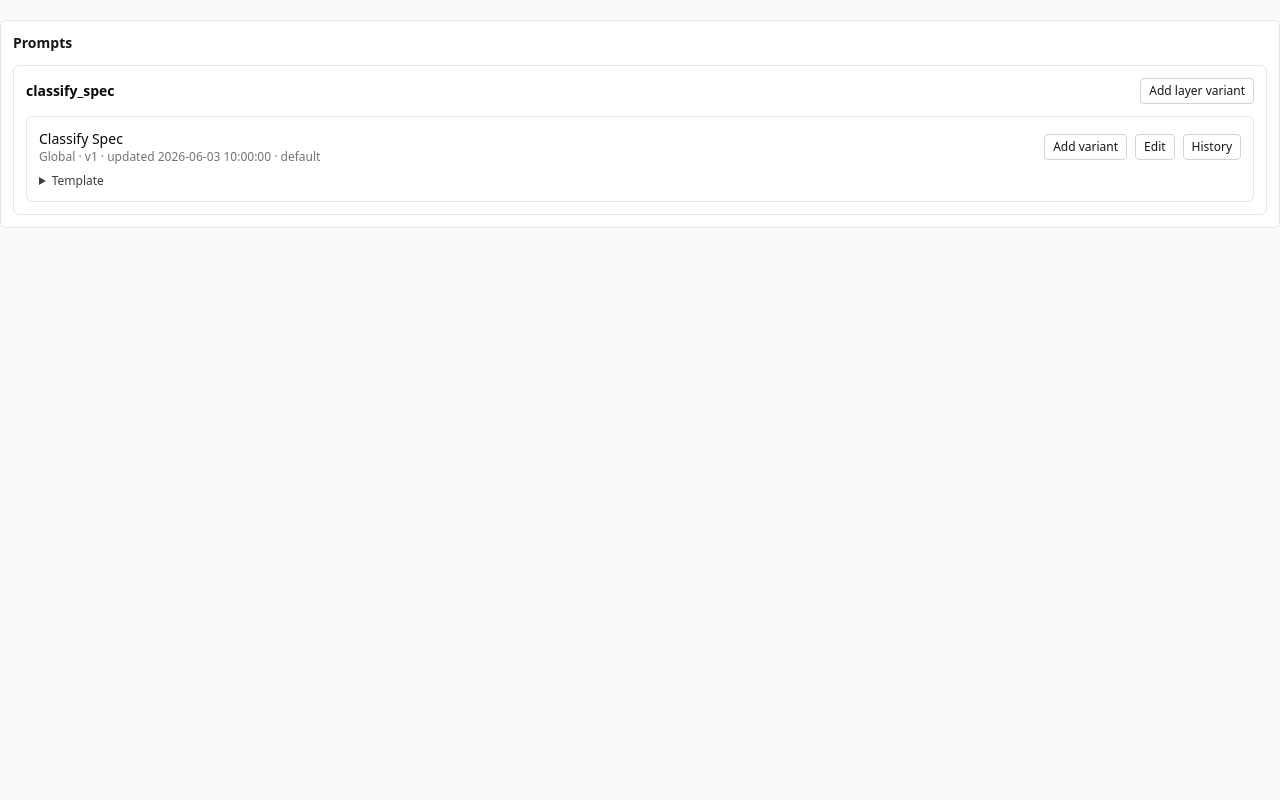
Scenario: PromptsPanel › refreshes active prompts after edit and promote
The width and height of the screenshot is (1280, 800).
Expected: the text "Global · v1 · updated 2026-06-03 10:00:00 · default" is shown, left=39, top=149, right=320, bottom=165
Click the button "Edit" at (1155, 147), box left=1135, top=134, right=1175, bottom=160
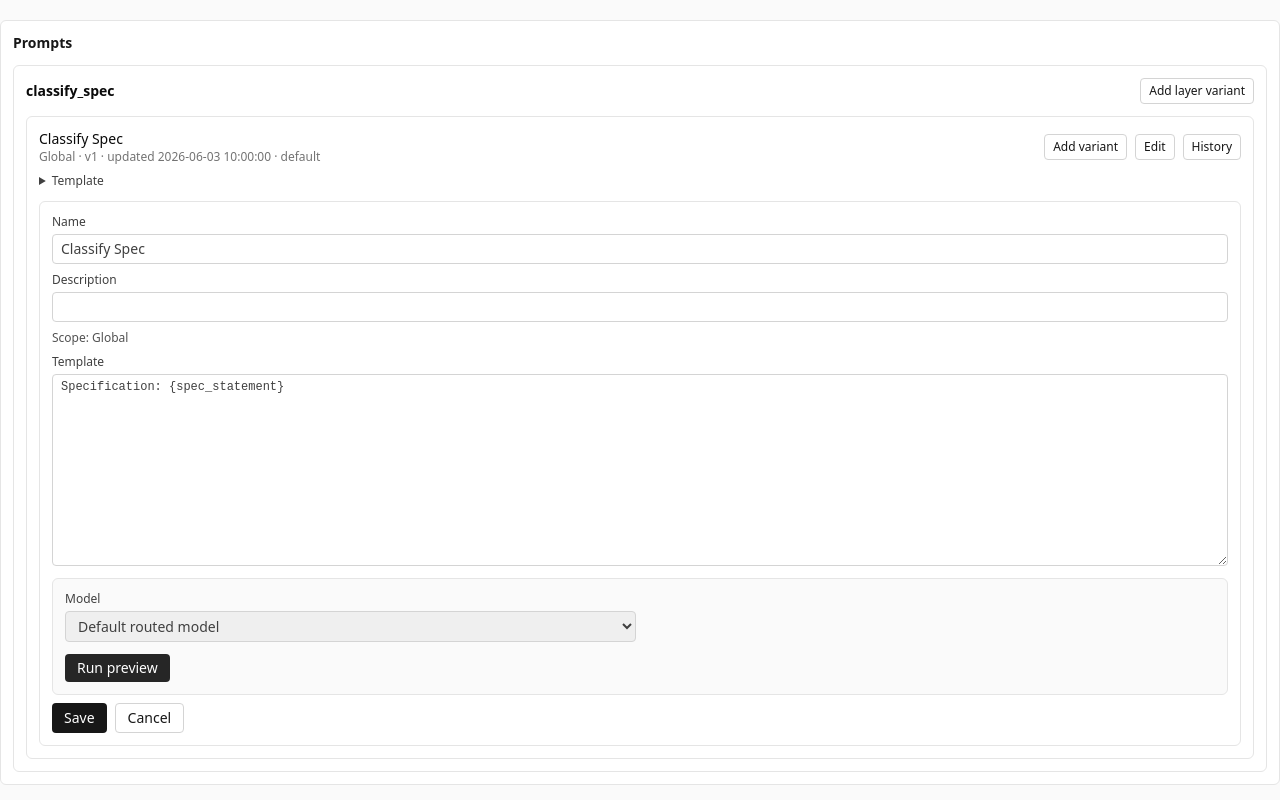
Click the button "Save" at (79, 718), box left=52, top=703, right=107, bottom=733
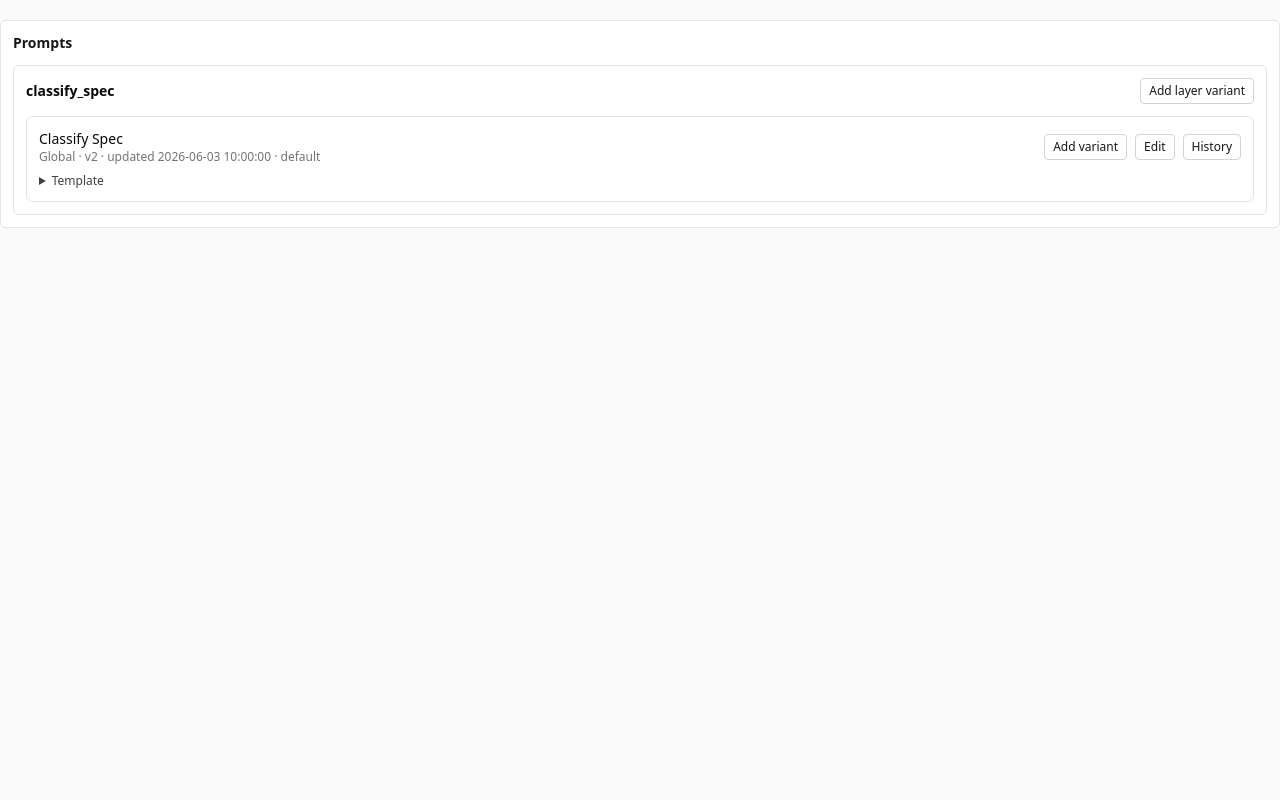
Expected: the text "Global · v2 · updated 2026-06-03 10:00:00 · default" is shown, left=39, top=149, right=320, bottom=165
Click the button "History" at (1212, 147), box left=1183, top=134, right=1241, bottom=160
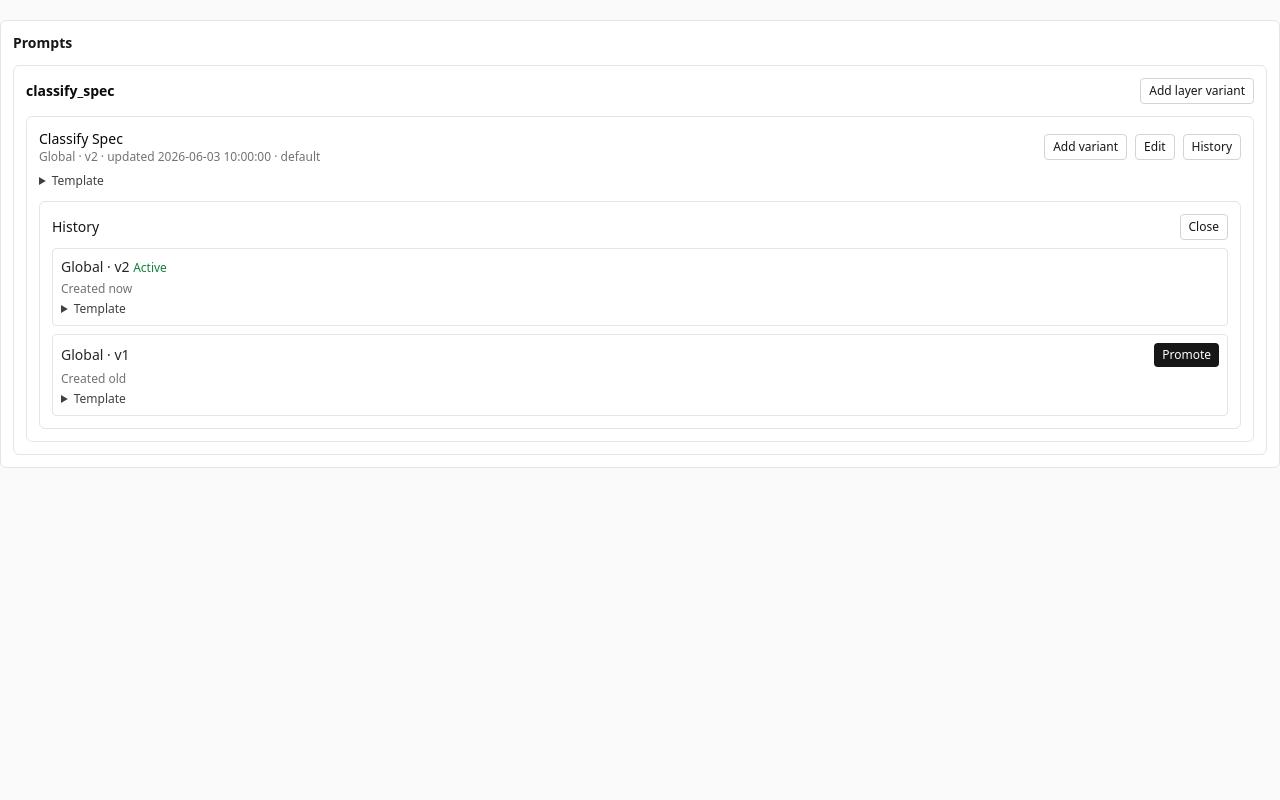
Click the button "Promote" at (1187, 355), box left=1154, top=343, right=1219, bottom=367
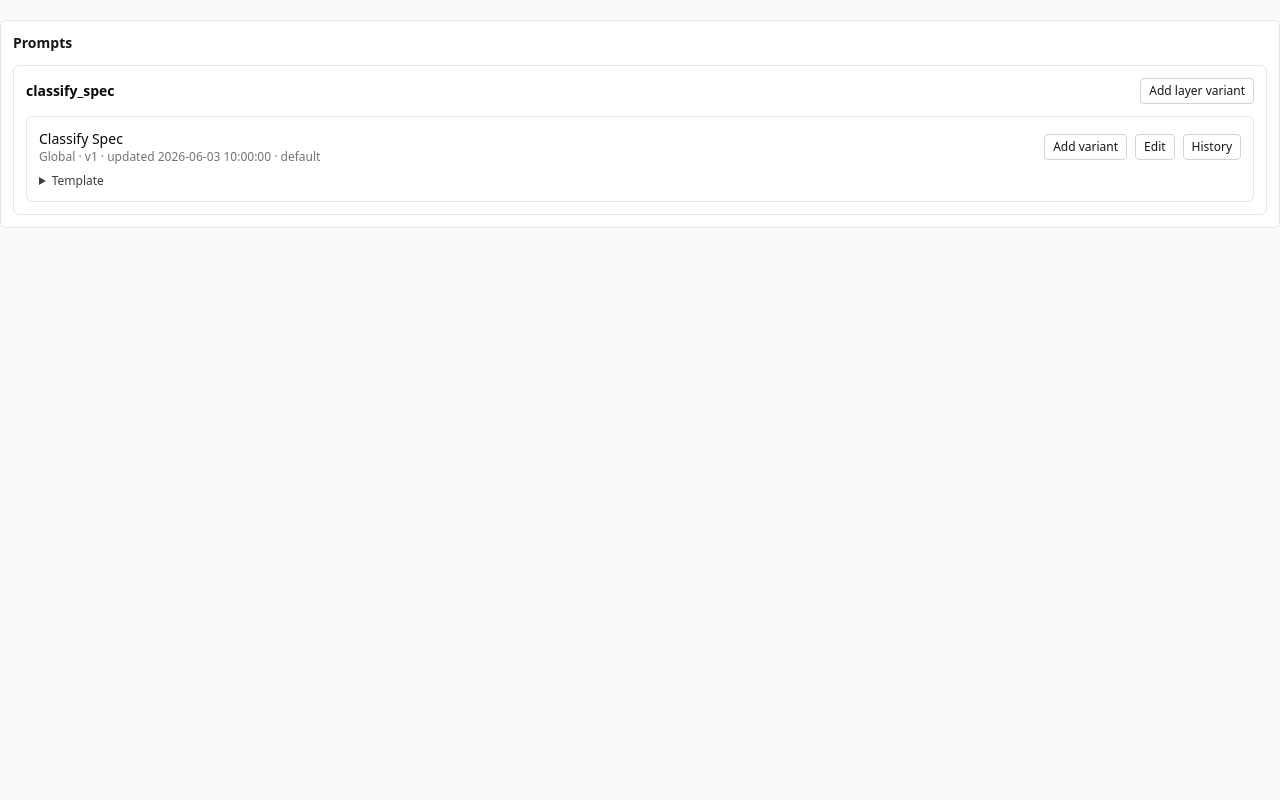
Expected: the text "Global · v1 · updated 2026-06-03 10:00:00 · default" is shown, left=39, top=149, right=320, bottom=165
